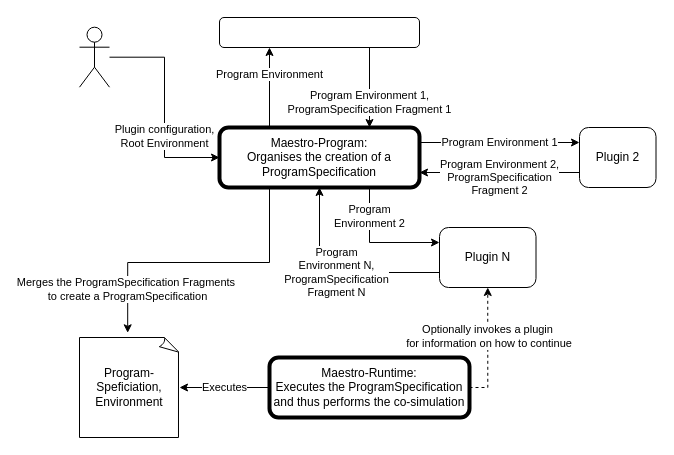
Some shapes in this 674 by 455 pixel diagram are drawn without their labels. The shapes that lost their labels are listed below. From the top down, each one's box as (x1, y1, x2, y2) in pixels, then its label:
(218, 16, 420, 48): Plugin 1
(78, 26, 110, 87): Activator
